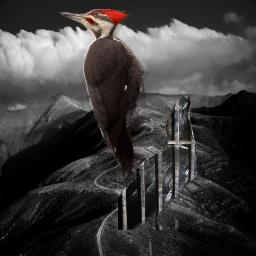Crow: (118, 96, 197, 230)
Woodpecker: (59, 9, 149, 179)
